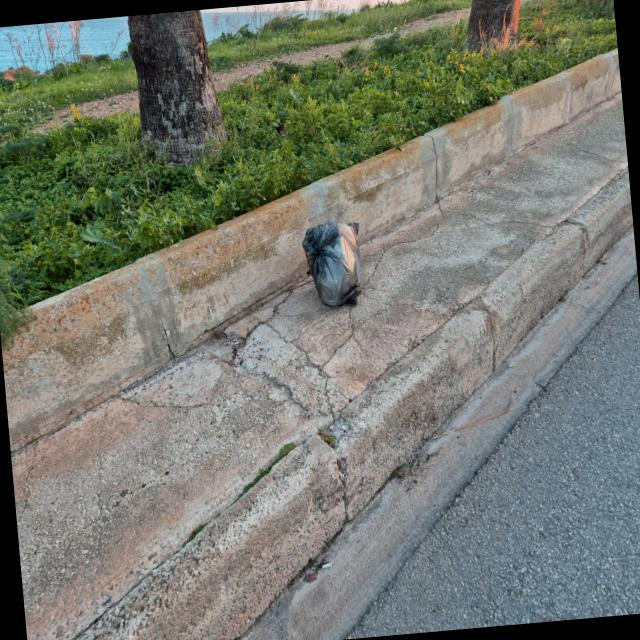black_bag: (293, 202, 382, 318)
